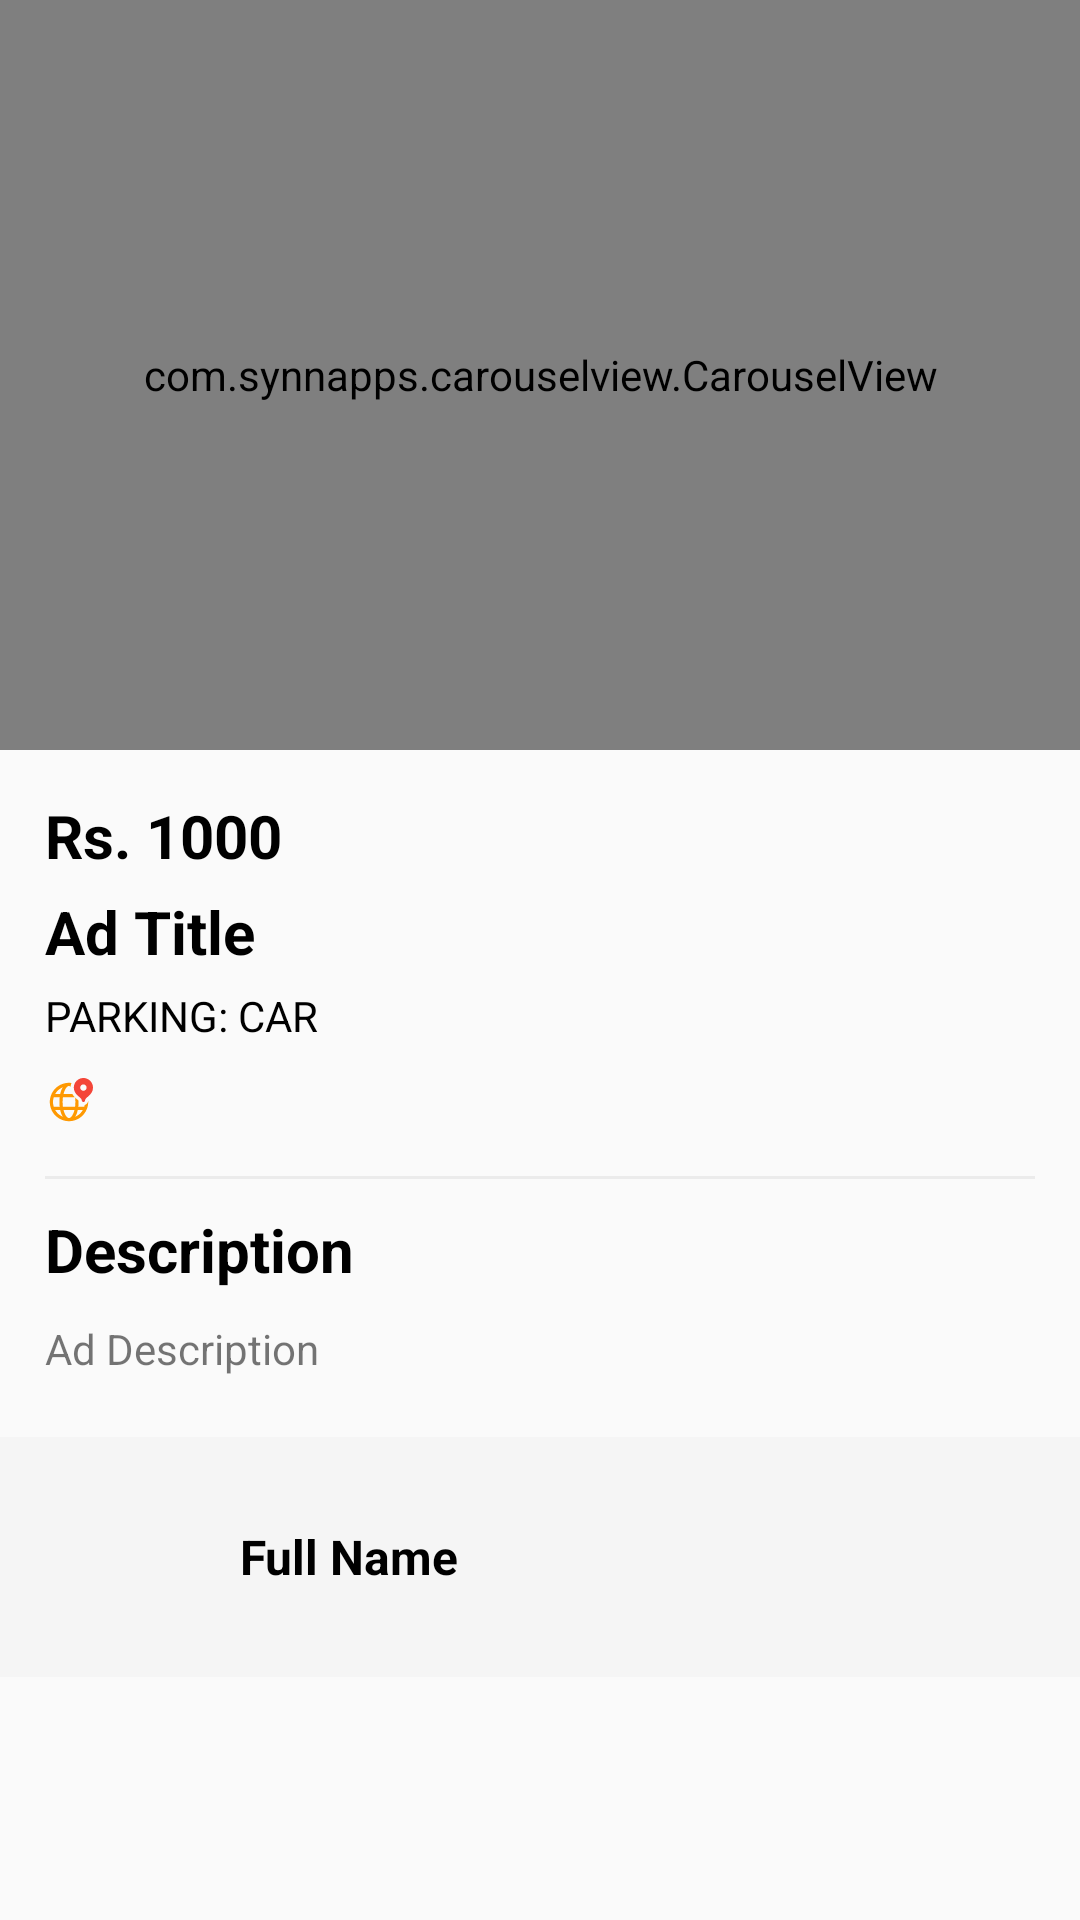

Point at icon controls on the screen. Image size 1080 x 1920, points as (x=x, y=y).
location: (x=71, y=1100)
